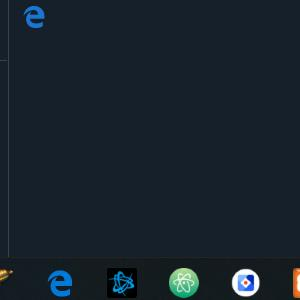edge: (48, 269, 72, 297), (24, 5, 44, 29)
